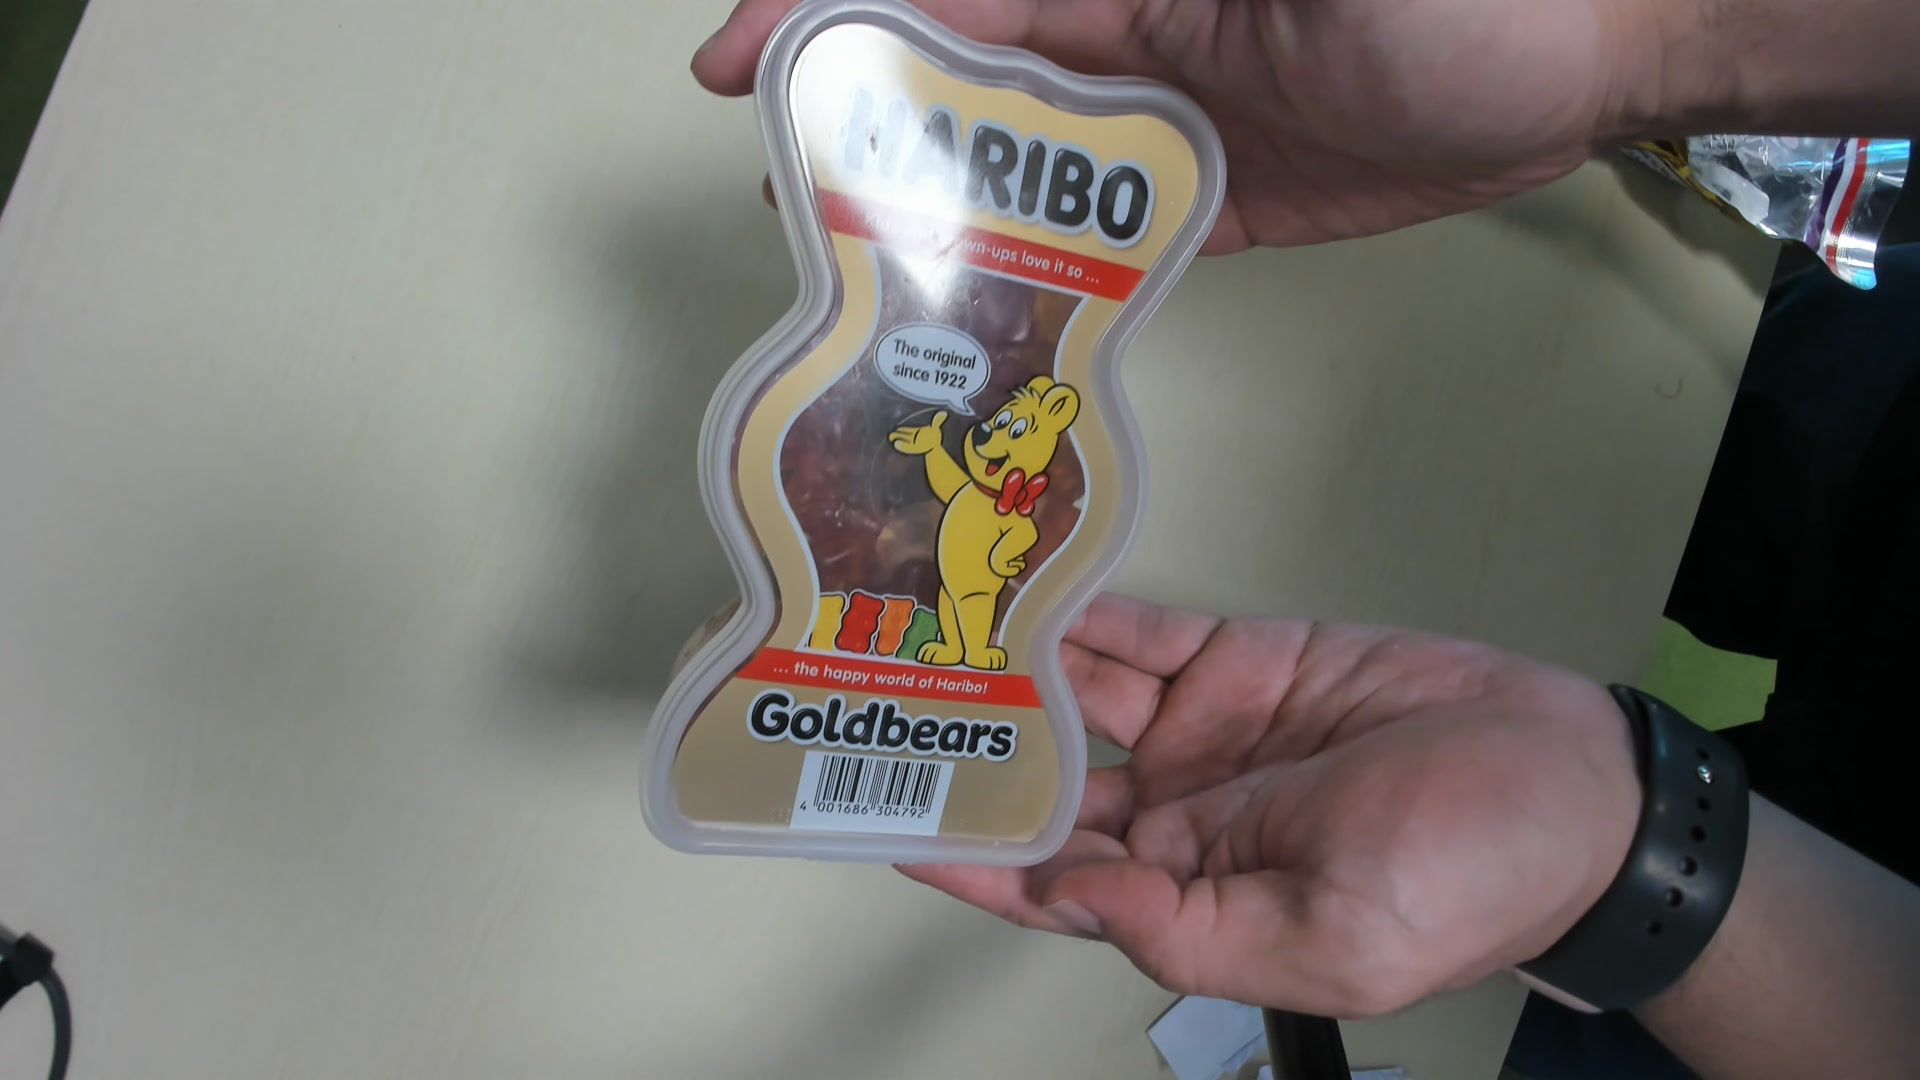SweetsChocolatesOthers_400-499g_NonHalal_Nonhealthy: (630, 8, 1220, 869)
